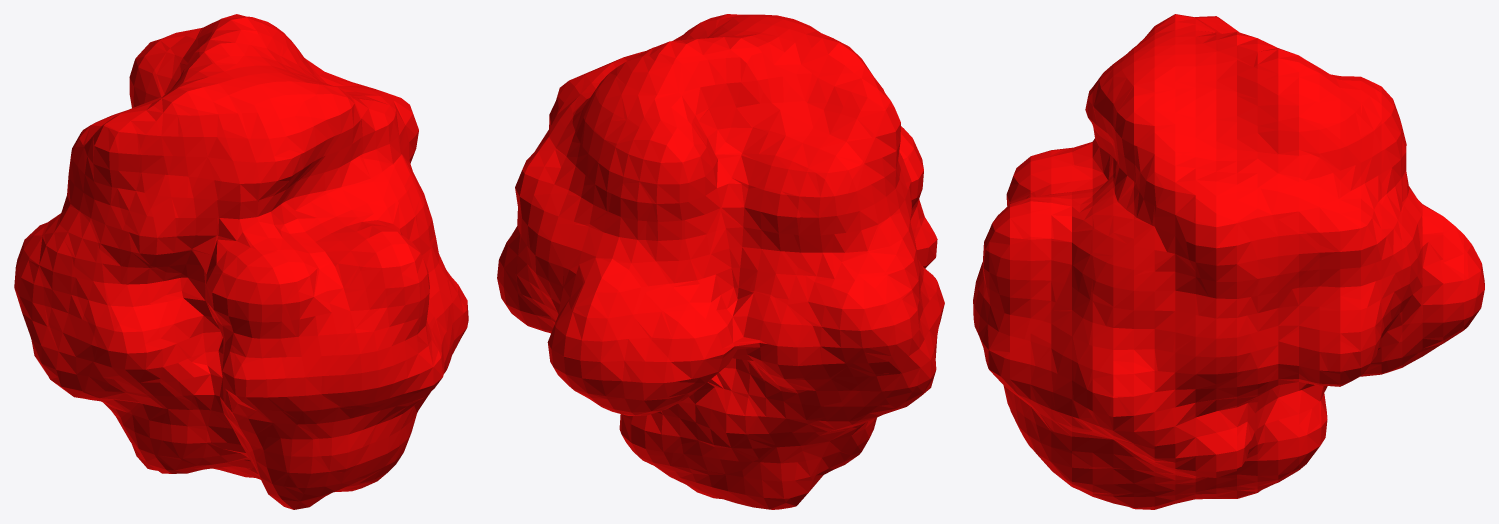
Rendered from gstA_coarse.dae.
3 views of the same model, side by side, from view 1: azimuth 30°, elevation 25°; view 2: azimuth 150°, elevation 25°; view 3: azimuth 270°, elevation 25° (orthographic). The views are drawn at different scales.
Visible parts, largest first — view 1: gstA; view 2: gstA; view 3: gstA.
Part boxes in pixels (<box>): gstA: <box>14,14,468,509</box>; gstA: <box>497,14,944,509</box>; gstA: <box>973,14,1484,509</box>.
Bounding box in the file's own units: 54.46 × 61.14 × 63.01.
